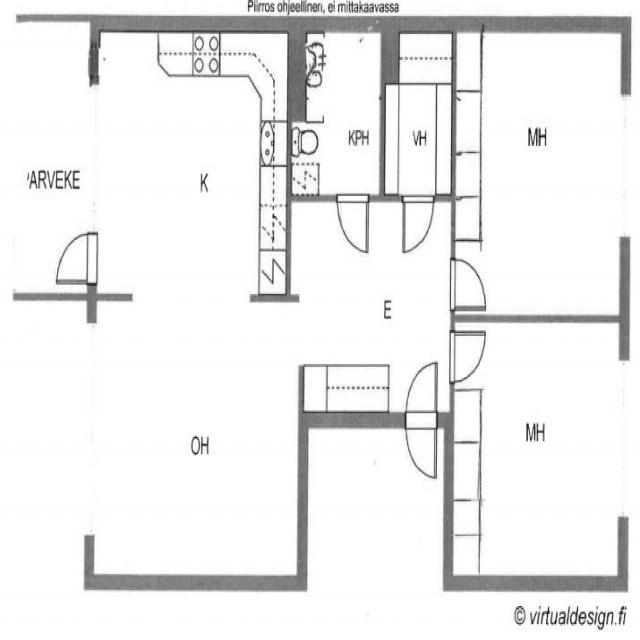door: (56, 233, 96, 283), (406, 364, 436, 428), (406, 413, 436, 477), (450, 259, 485, 309), (338, 194, 368, 252), (450, 332, 484, 382), (403, 194, 433, 250)
